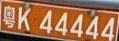K: (18, 7, 31, 30)
